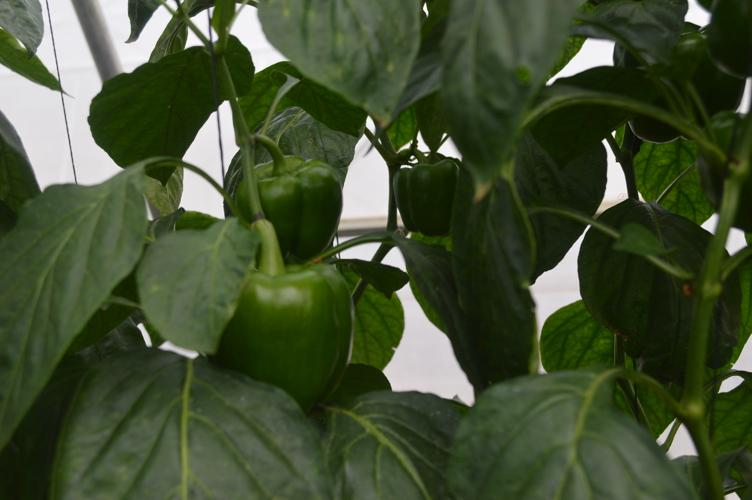BellPepper: (222, 265, 359, 410), (607, 22, 743, 145), (238, 156, 345, 258), (388, 160, 460, 237)
